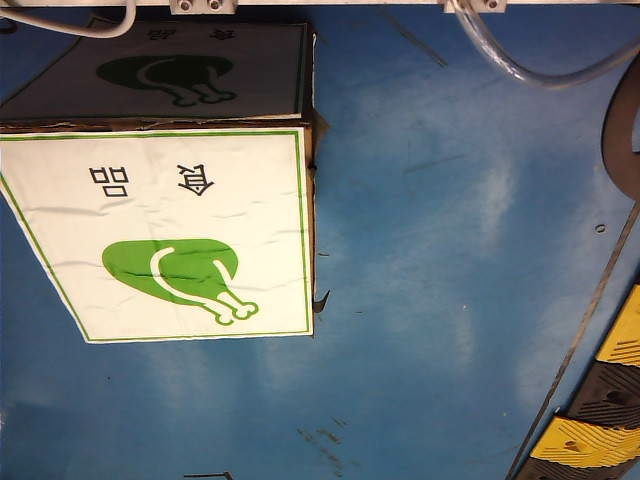Cube_food: (87, 146, 265, 336)
